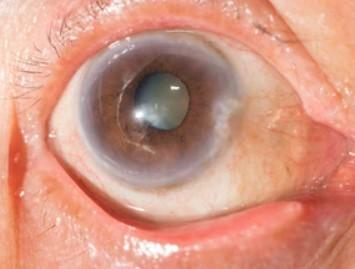eye: (81, 30, 239, 186)
